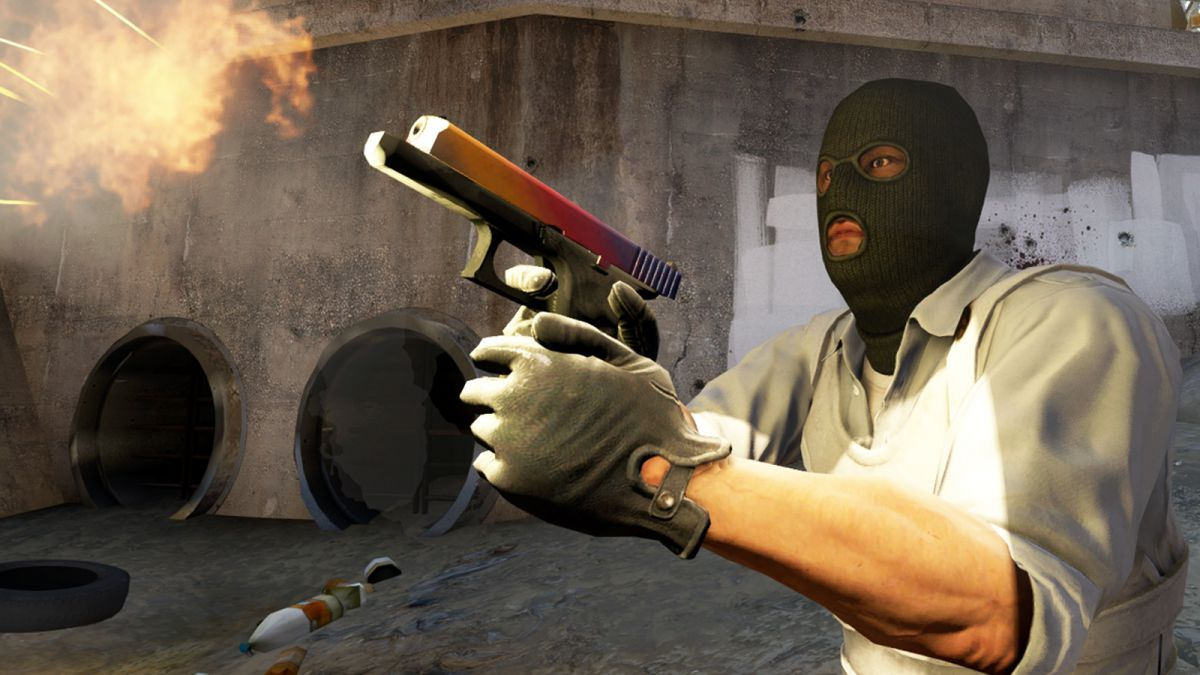t: (474, 72, 1185, 675)
th: (807, 77, 993, 365)
